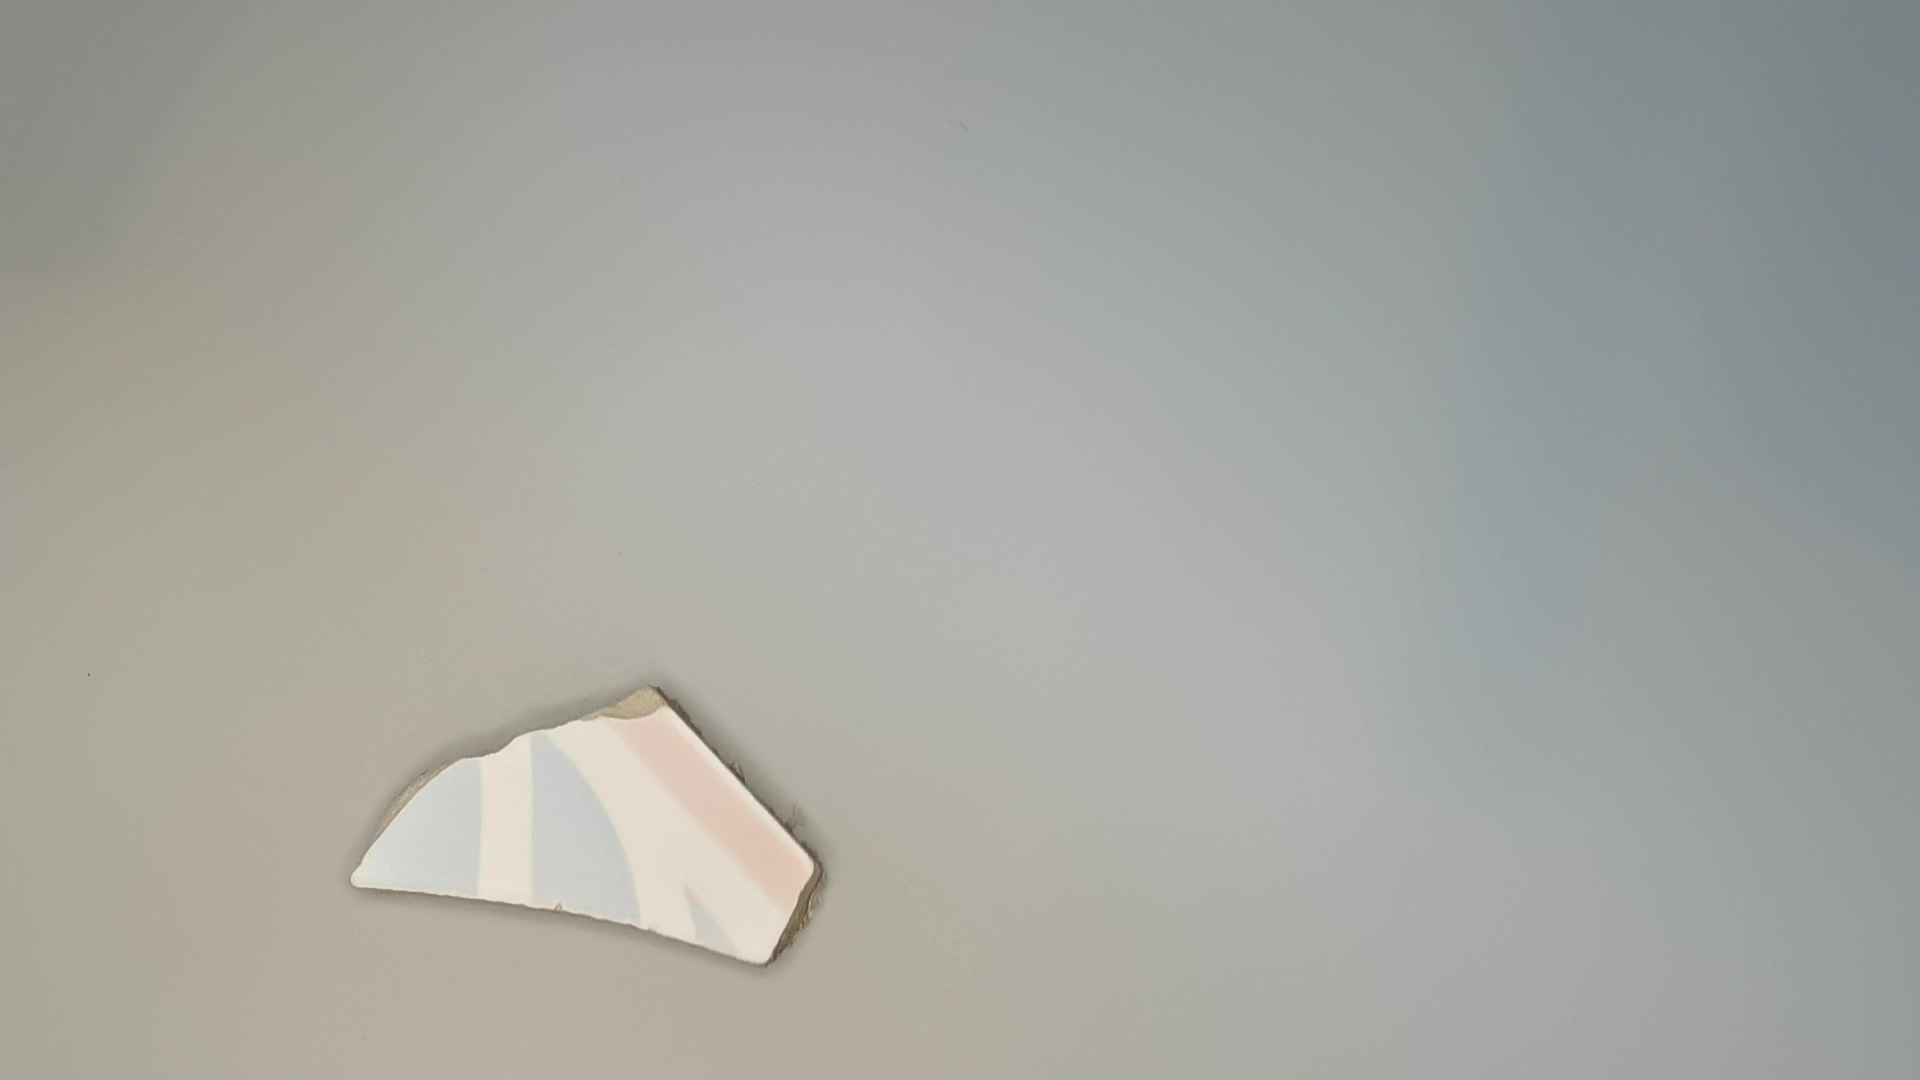ceramic: (355, 674, 822, 975)
